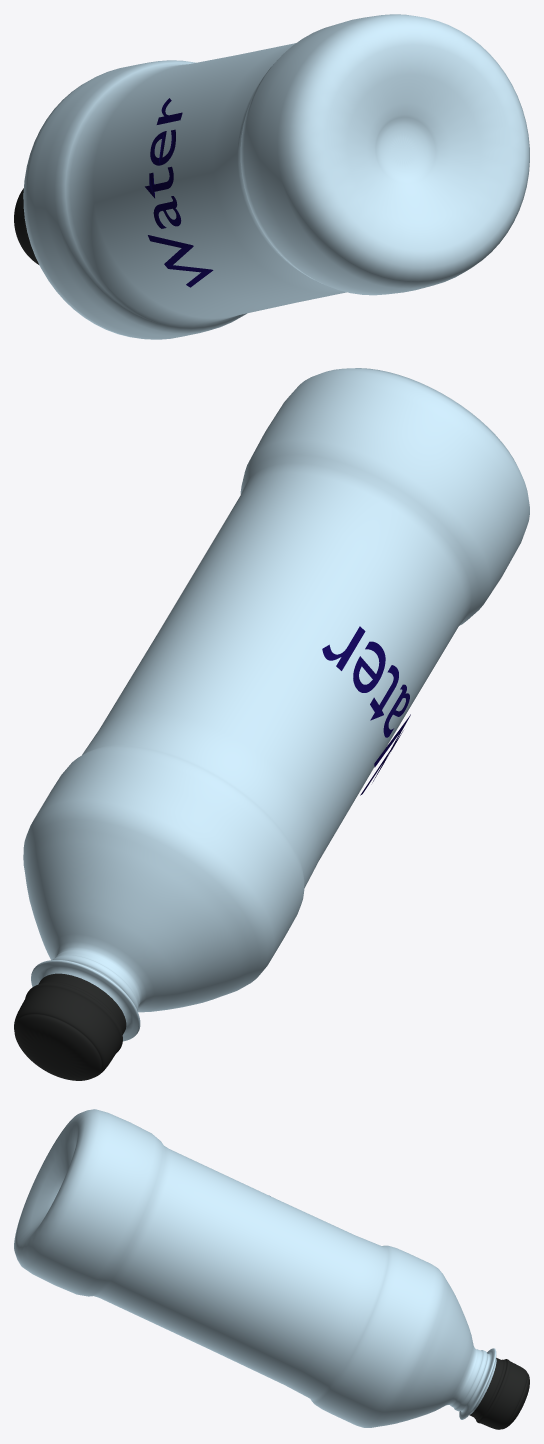
File: water_anim.fbx
The picture shows the model from 3 angles, top to bottom: view 1: azimuth 30°, elevation 25°; view 2: azimuth 150°, elevation 25°; view 3: azimuth 270°, elevation 25°; orthographic projection. The views are drawn at different scales.
Visible parts, largest first — view 1: Cylinder.003; view 2: Cylinder.003; view 3: Cylinder.003.
Part boxes in pixels (x1=…): Cylinder.003: x1=14, y1=14, x2=529, y2=339; Cylinder.003: x1=14, y1=368, x2=529, y2=1080; Cylinder.003: x1=14, y1=1109, x2=529, y2=1429.
Bounding box in the file's own units: 64.41 × 122 × 185.
